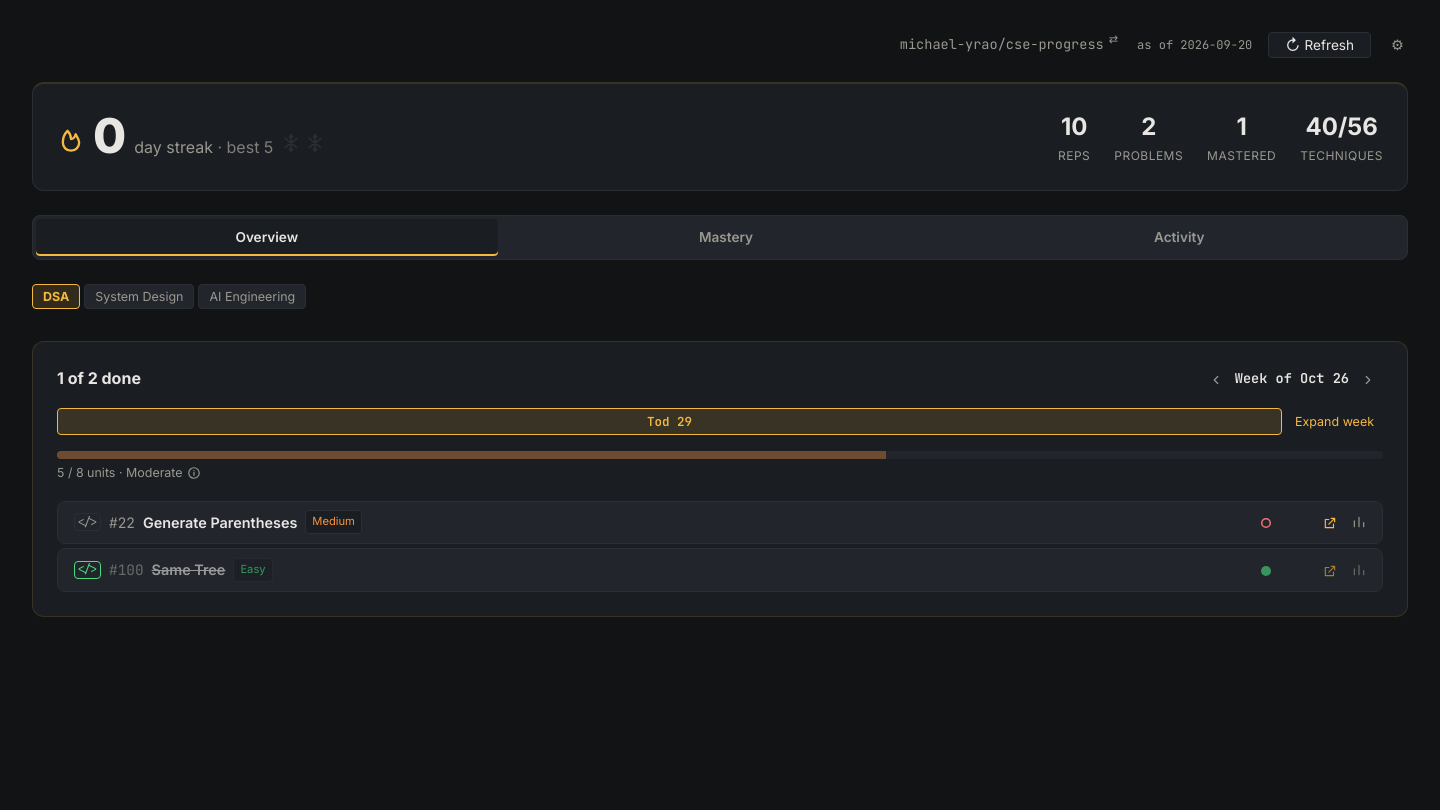
Test: ProgressPageComponent › shows the Schedule card for DSA and, after selecting another area, the coming-soon card instead
This screenshot has width=1440, height=810.
Check: the element with class "today-board-card" is shown, box [32,341,1408,617]
Check: the text "Coming soon" is not shown
Click the button with class "growth-toggle__btn" showing "System Design" at (139, 297), box [84,284,194,309]
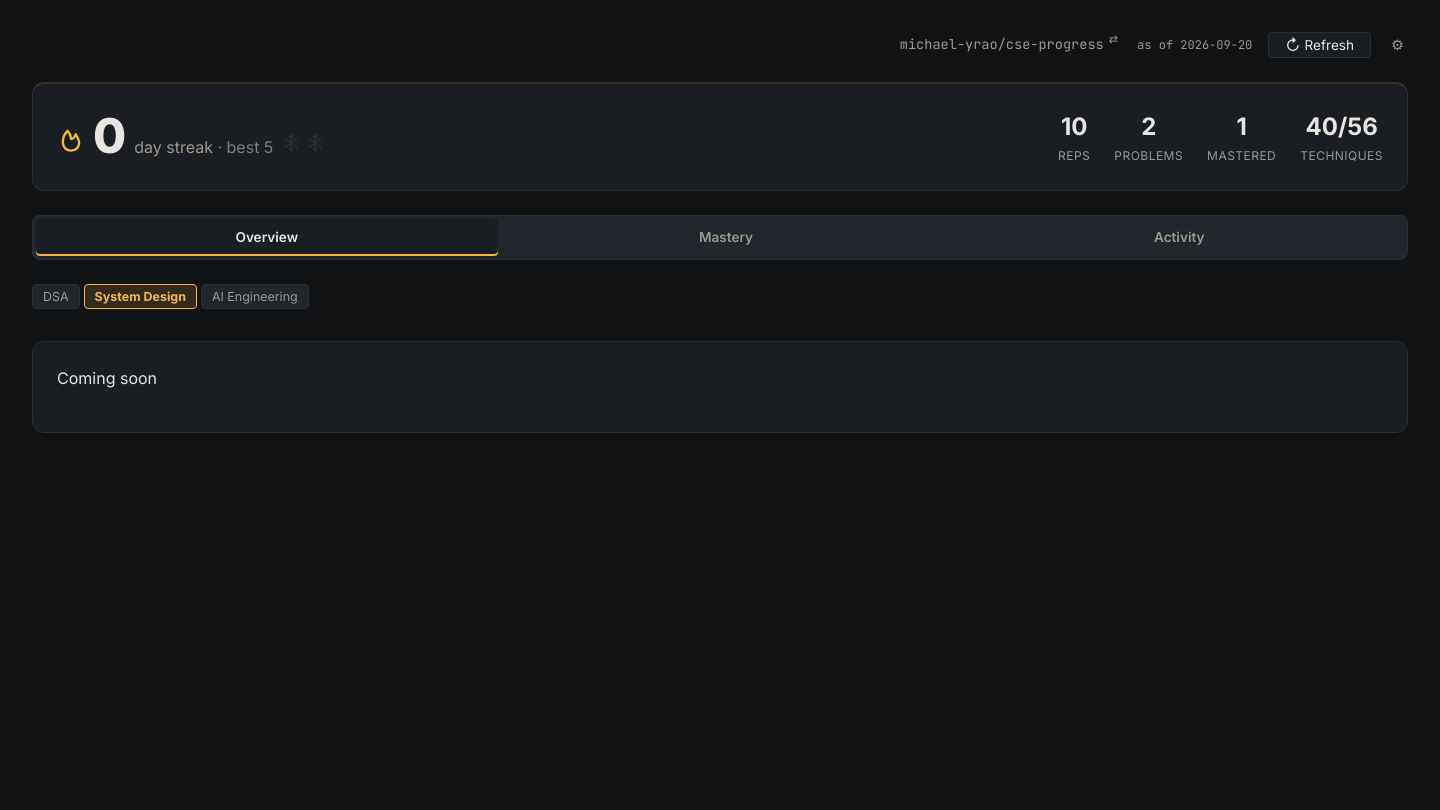
Check: the element with class "today-board-card" is gone
Check: the text "Coming soon" is shown, box [57,368,157,388]
